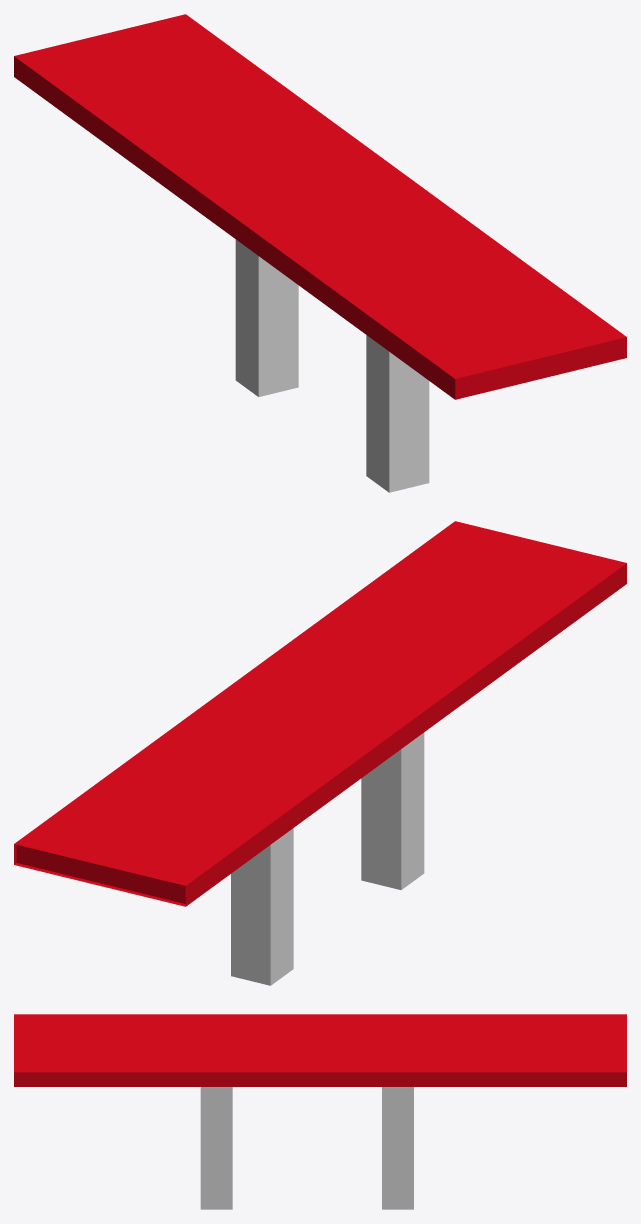
Rendered from GassStation_3_RED.dae.
The picture shows the model from 3 angles, top to bottom: view 1: azimuth 30°, elevation 25°; view 2: azimuth 150°, elevation 25°; view 3: azimuth 270°, elevation 25°; orthographic projection. The views are drawn at different scales.
Visible parts, largest first — view 1: Cube.002, Cube.001, Cube; view 2: Cube.002, Cube, Cube.001; view 3: Cube.002, Cube, Cube.001.
Part boxes in pixels (x1,y1,x2,y2): Cube.002: [14, 14, 626, 399]; Cube.001: [235, 239, 298, 396]; Cube: [366, 335, 429, 492]; Cube.002: [14, 521, 626, 906]; Cube: [361, 732, 424, 890]; Cube.001: [231, 828, 293, 985]; Cube.002: [14, 1014, 626, 1086]; Cube: [200, 1087, 232, 1209]; Cube.001: [382, 1087, 413, 1209].
Size of the model in its own units: 8.61 by 38.29 by 10.95.
